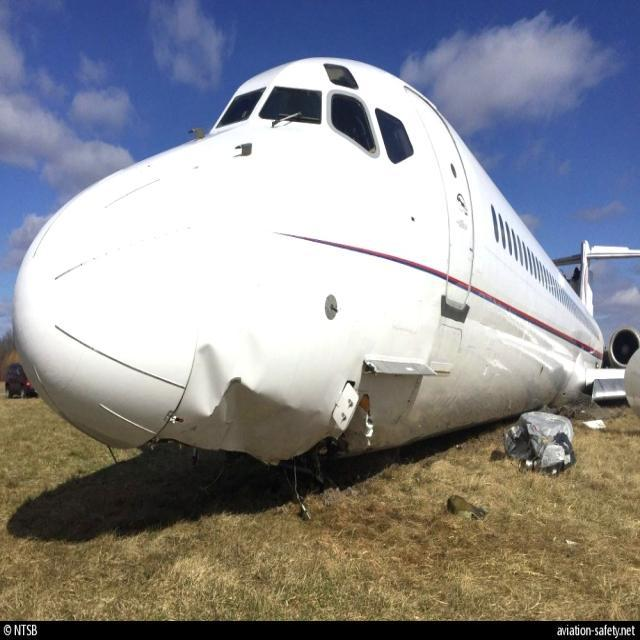dent: (194, 340, 228, 417), (240, 335, 267, 391)
